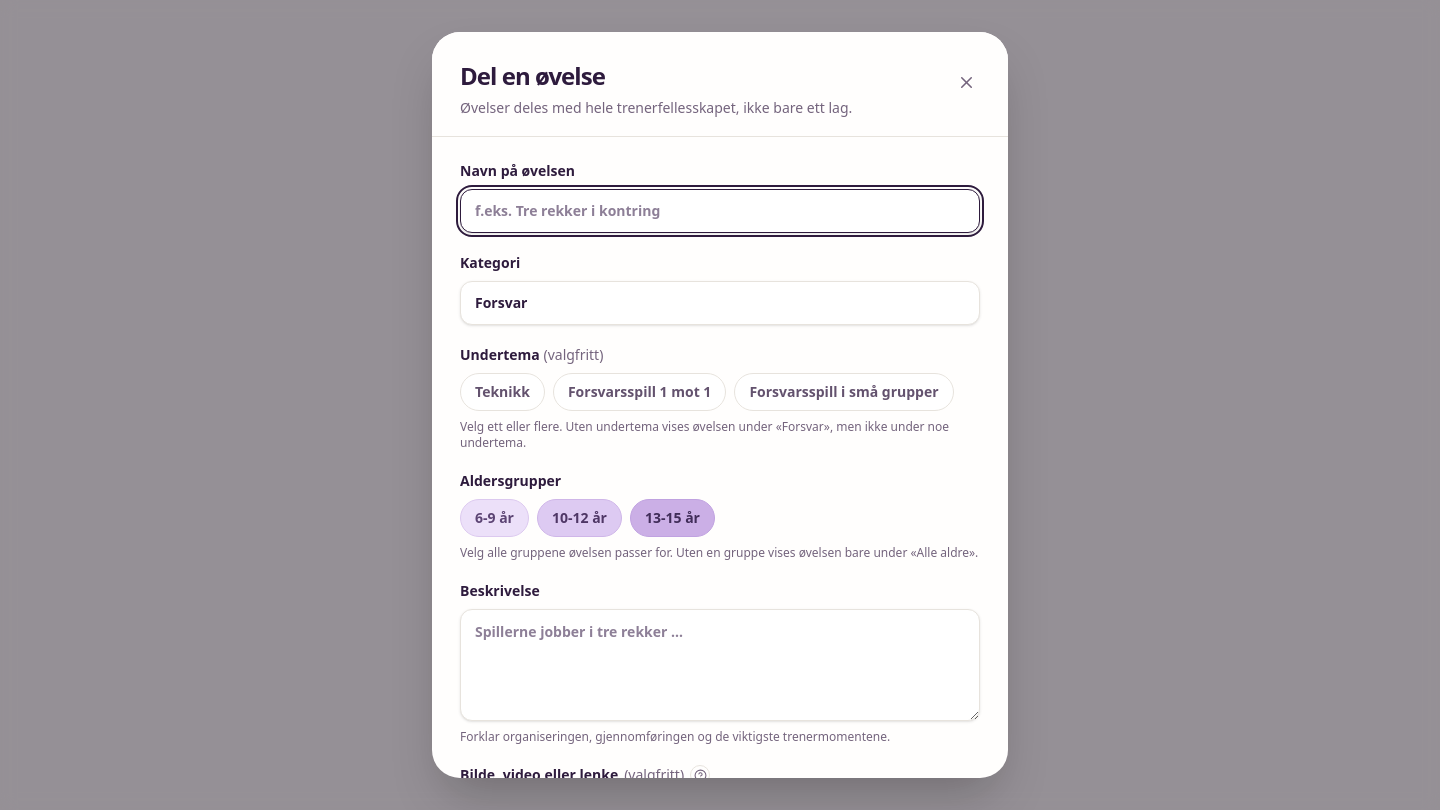
Test: ExerciseForm media source › offers the link and the upload as one choice, starting on the recommended link
Type "Tre rekker" into the field labelled "Navn på øvelsen" at (720, 211), box [460, 189, 980, 233]
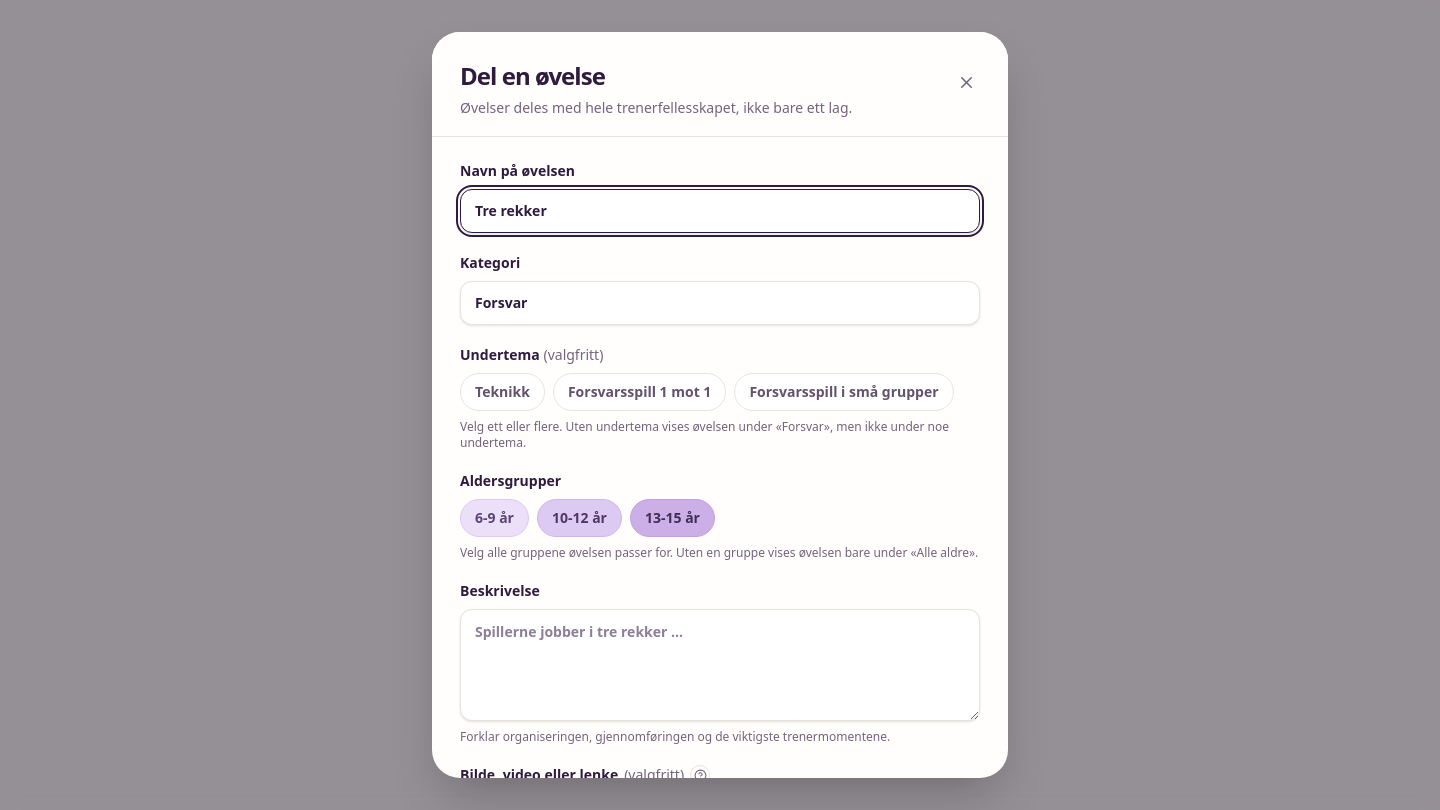
Type "Spillerne jobber i tre rekker." into the text box labelled "Beskrivelse" at (720, 665), box [460, 609, 980, 721]
(page scrolled)
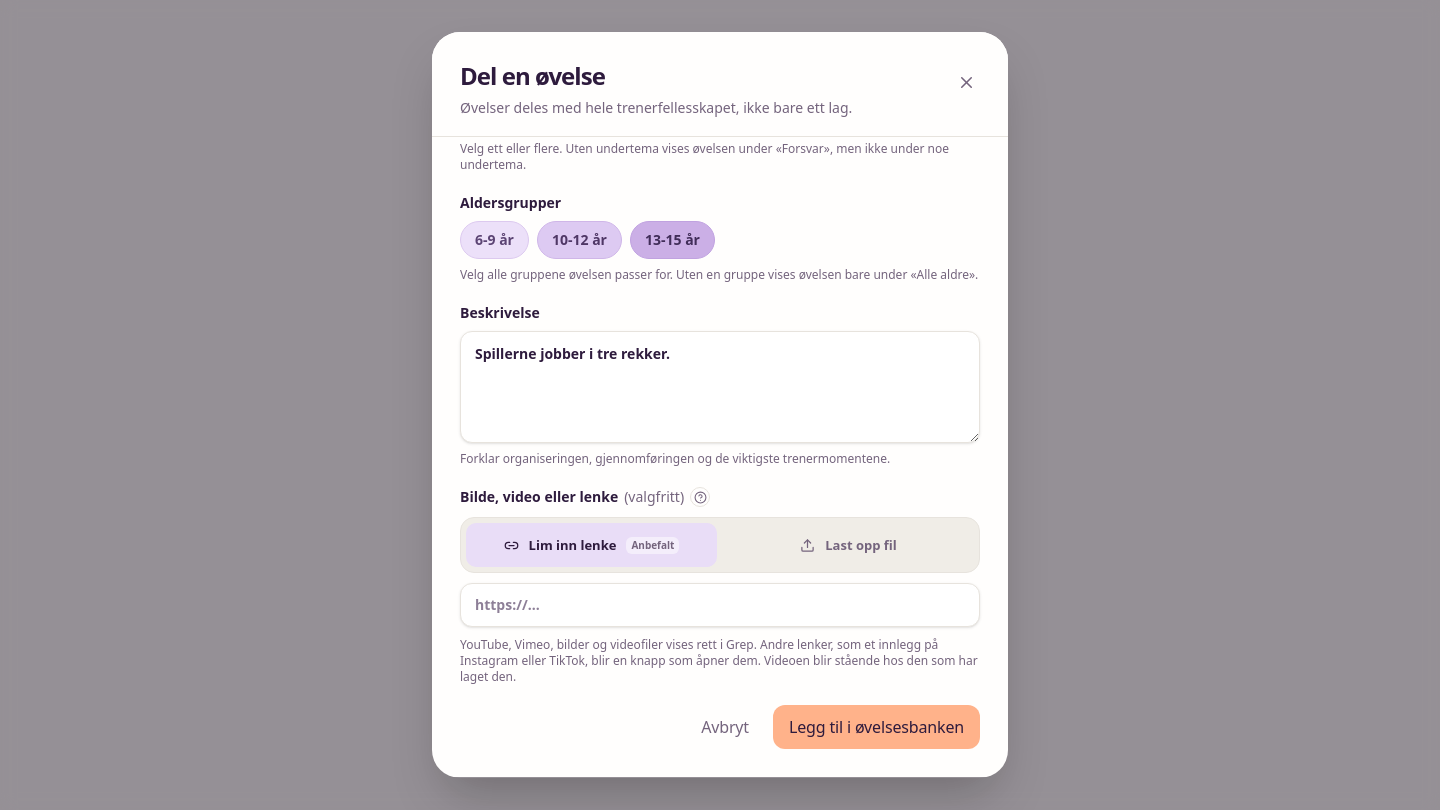
Result: the field named "Lenke til bilde, video eller innlegg" is shown at [460, 583, 980, 627]
